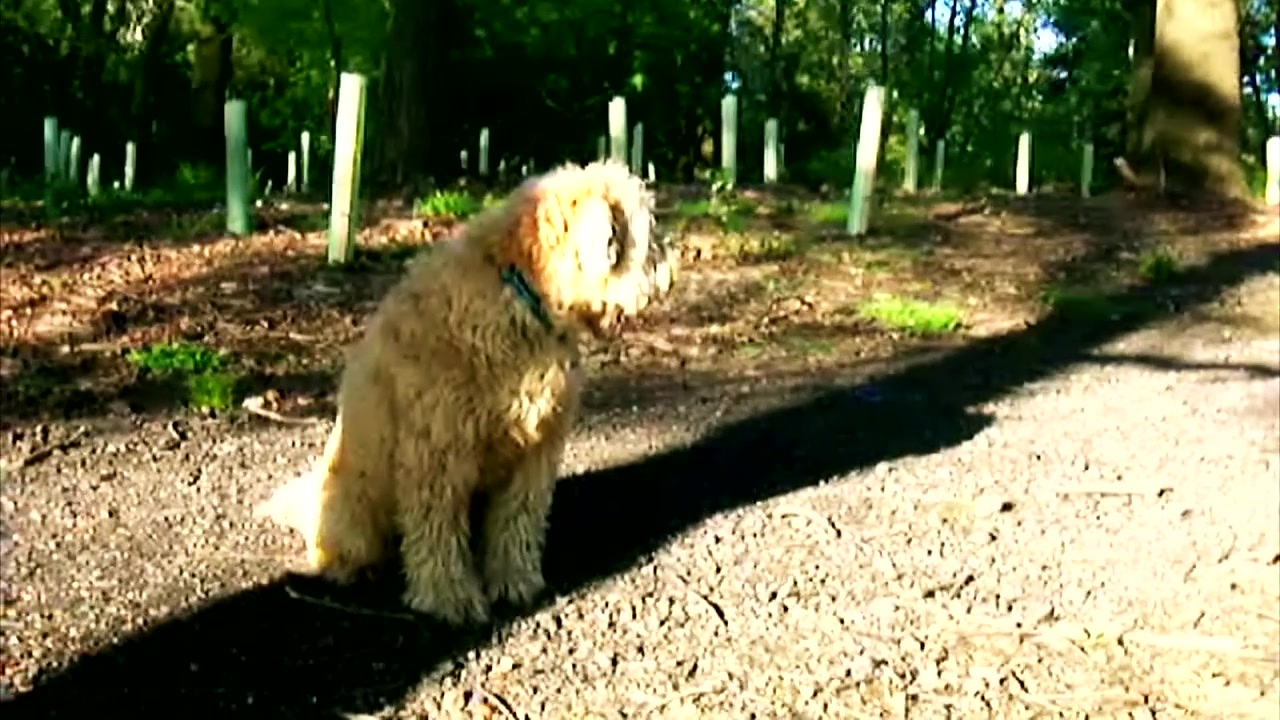dog: (252, 156, 684, 627)
